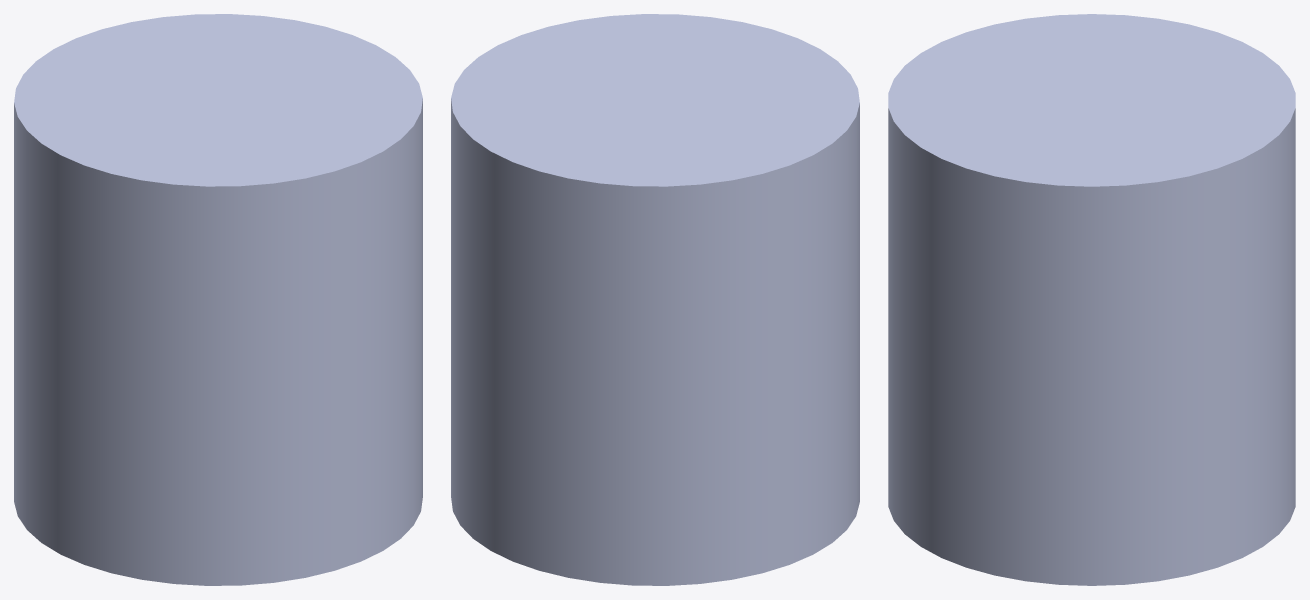
3 renders of one model, left to right at view 1: azimuth 30°, elevation 25°; view 2: azimuth 150°, elevation 25°; view 3: azimuth 270°, elevation 25°, orthographic.
Visible parts, largest first — view 1: FBXASC195FBXASC141FBXASC194FBXASC185FBXASC195FBXASC140FBXASC; view 2: FBXASC195FBXASC141FBXASC194FBXASC185FBXASC195FBXASC140FBXASC; view 3: FBXASC195FBXASC141FBXASC194FBXASC185FBXASC195FBXASC140FBXASC.
Part boxes in pixels (left/top/right/bottom): FBXASC195FBXASC141FBXASC194FBXASC185FBXASC195FBXASC140FBXASC: left=14, top=14, right=422, bottom=585; FBXASC195FBXASC141FBXASC194FBXASC185FBXASC195FBXASC140FBXASC: left=451, top=14, right=859, bottom=585; FBXASC195FBXASC141FBXASC194FBXASC185FBXASC195FBXASC140FBXASC: left=888, top=14, right=1295, bottom=585.
Bounding box in the file's own units: 0.071 × 0.0708 × 0.0765.
